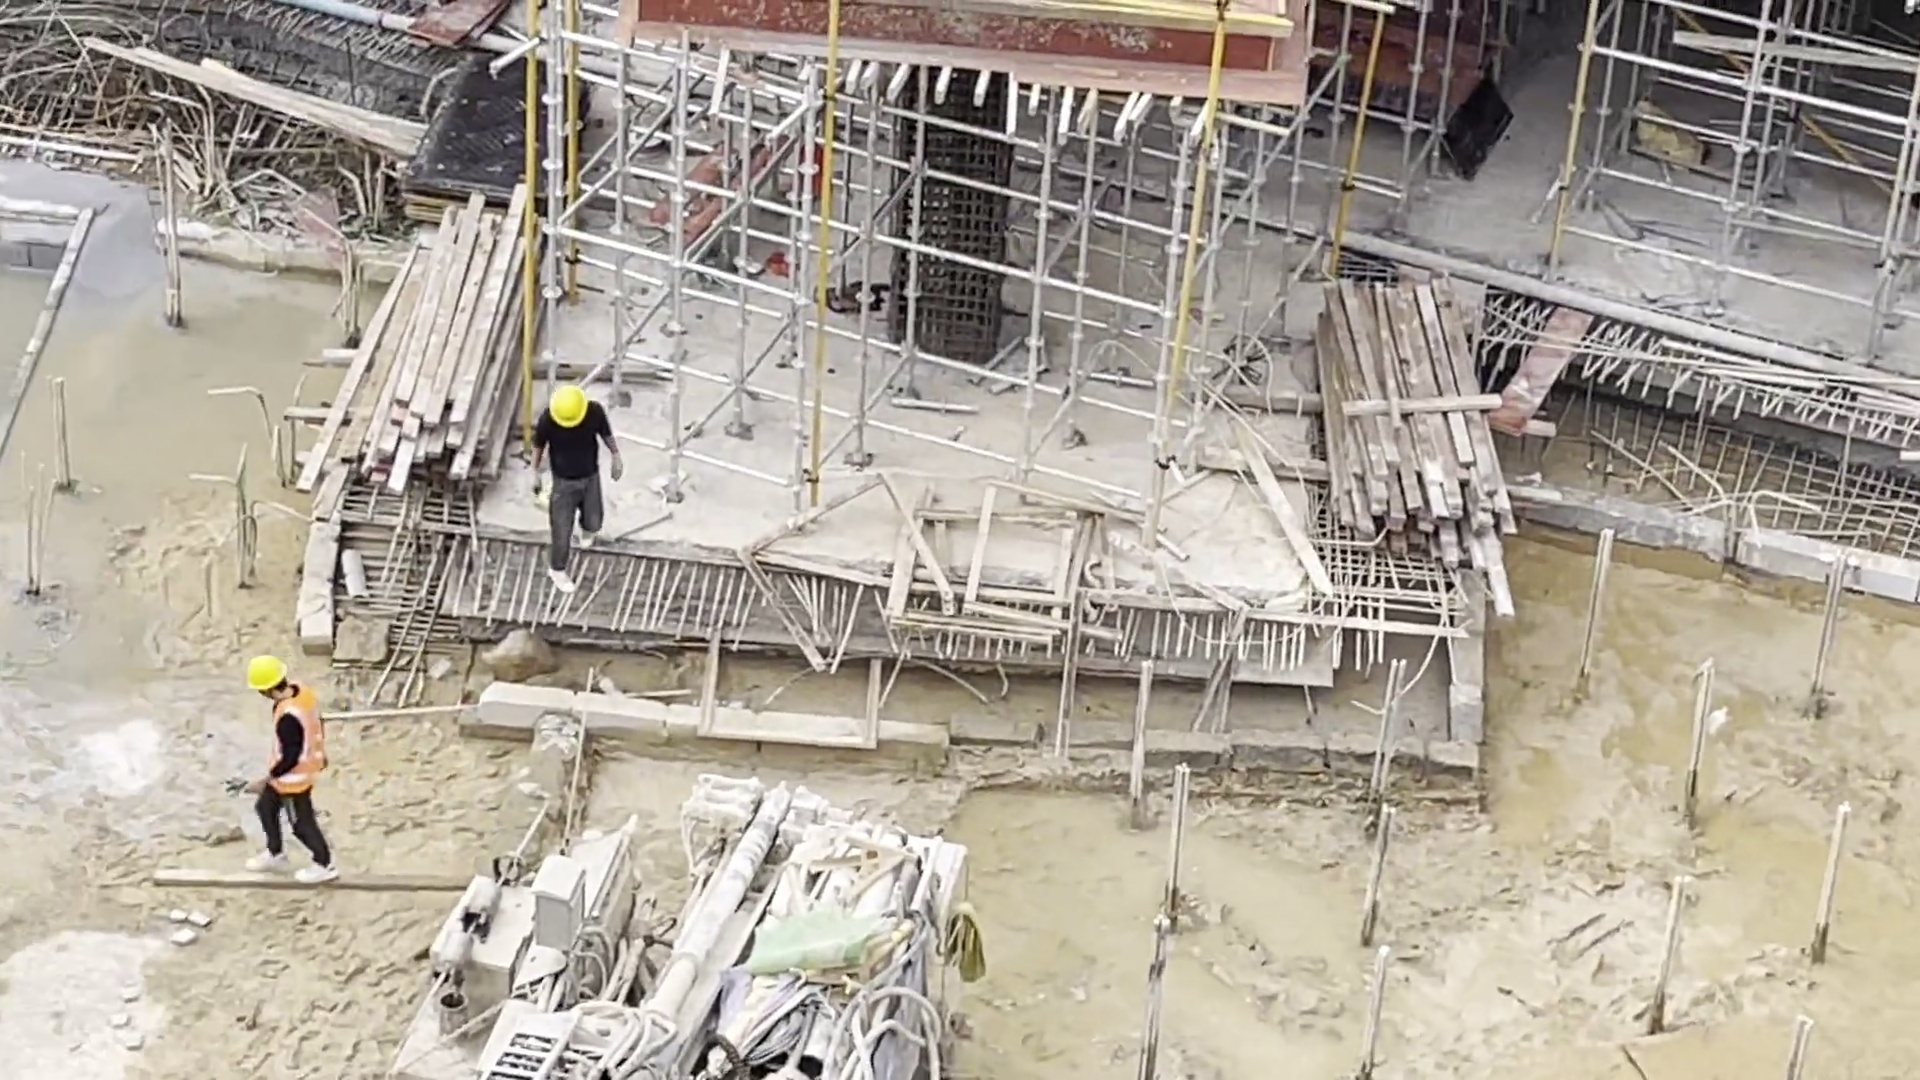board: (391, 50, 531, 228)
helmet: (550, 385, 590, 431), (244, 654, 289, 694)
person: (242, 648, 342, 894), (518, 381, 628, 603)
vest: (264, 685, 329, 801)
wood: (298, 185, 537, 510), (1320, 270, 1518, 619)
